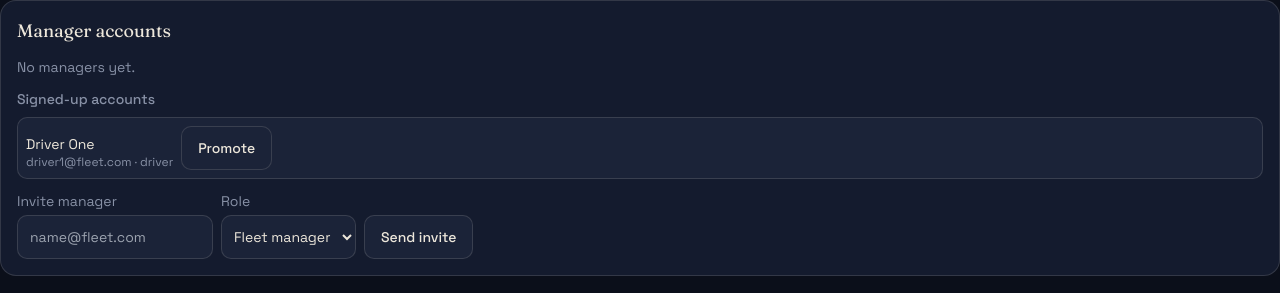
Scenario: ManagerList (real mode — Supabase env vars configured) › lists signed-up accounts and promotes one with a single click for a fleet_manager caller (no role/fleet inputs)
Expected: the text "Driver One" is shown, [26, 135, 95, 153]
Click the button "Promote".
click(227, 148)  # box [181, 126, 272, 170]
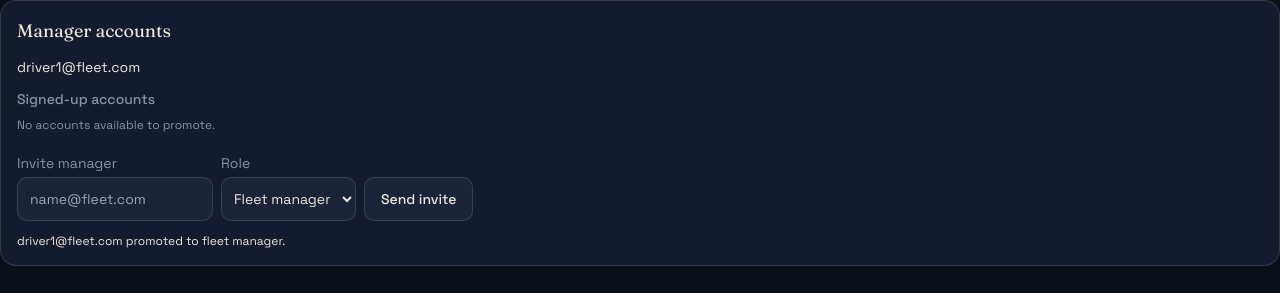
Expected: the text "driver1@fleet.com promoted to fleet manager." is shown, [17, 233, 285, 249]
Expected: the list item "driver1@fleet.com" is shown, [17, 58, 140, 76]
Expected: the text "Driver One" is gone
